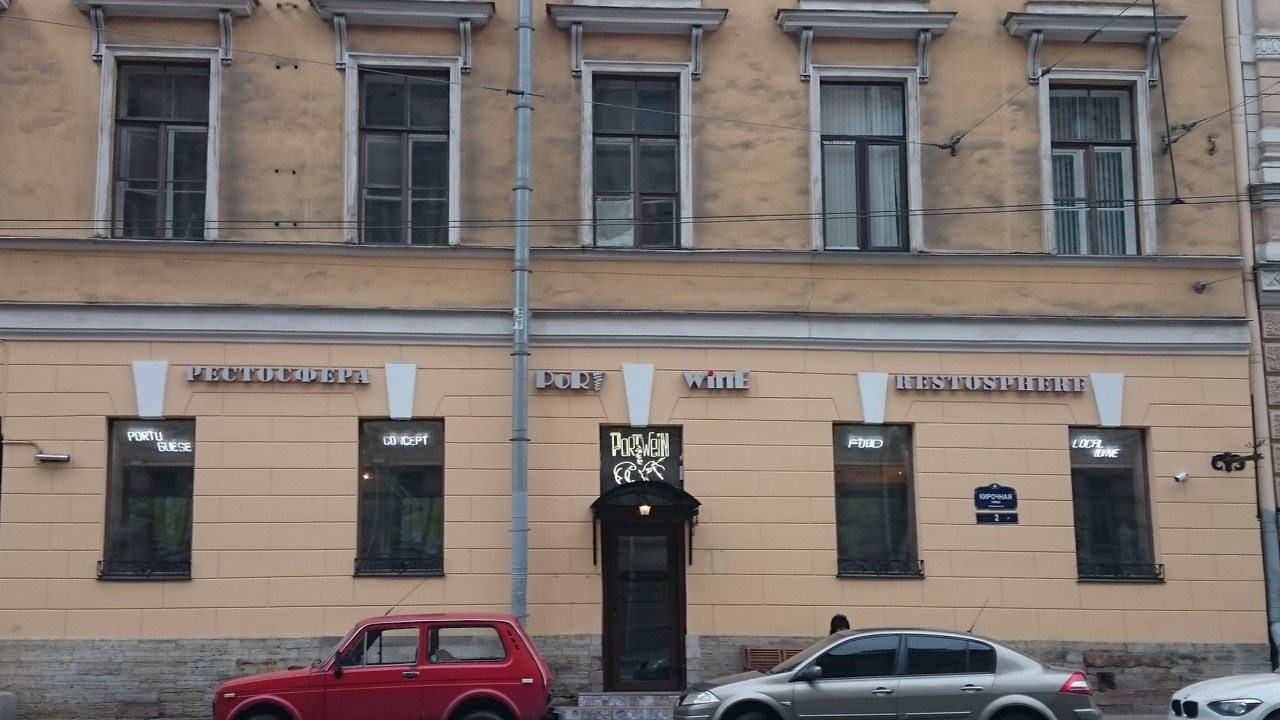door: (603, 512, 684, 691)
signboard: (184, 363, 373, 392), (893, 372, 1087, 395), (531, 363, 603, 394), (681, 368, 751, 393)
window: (112, 57, 211, 240), (359, 63, 451, 244), (1049, 79, 1142, 256), (817, 76, 908, 251), (592, 72, 681, 247), (1070, 425, 1159, 582), (831, 422, 919, 576), (109, 419, 191, 580), (361, 417, 441, 573)
